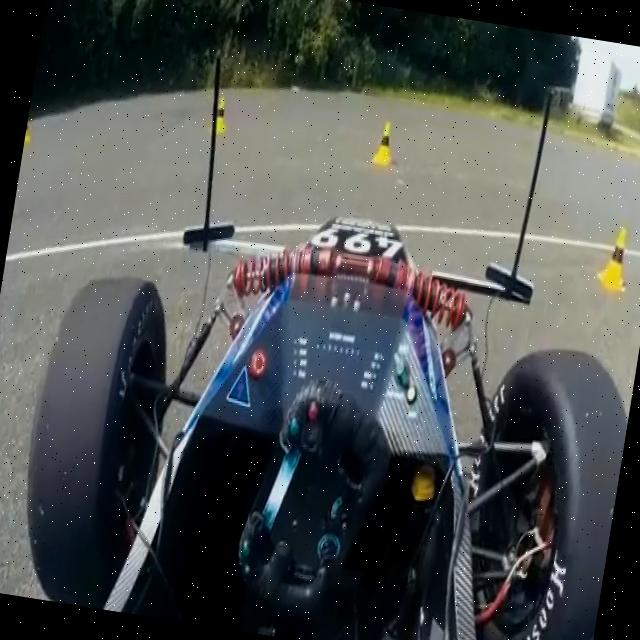yellow_cone: (595, 222, 636, 296), (369, 117, 398, 169), (208, 92, 232, 136), (24, 109, 34, 144)
